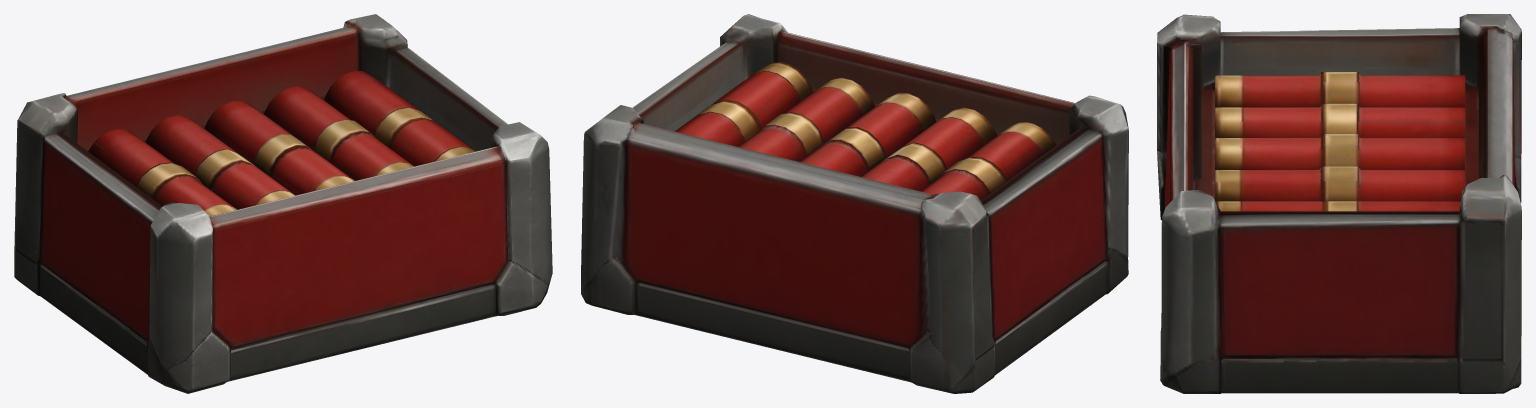
File: shotgun_ammo.glb
3 views of the same model, side by side, from view 1: azimuth 30°, elevation 25°; view 2: azimuth 150°, elevation 25°; view 3: azimuth 270°, elevation 25° (orthographic). The views are drawn at different scales.
Parts seen in each view (by area): view 1: tripo_node_61f35cd9-13f4-45f5-ac6d-9ddf1a7cd223; view 2: tripo_node_61f35cd9-13f4-45f5-ac6d-9ddf1a7cd223; view 3: tripo_node_61f35cd9-13f4-45f5-ac6d-9ddf1a7cd223.
Boxes of the visible parts, x1=… form: tripo_node_61f35cd9-13f4-45f5-ac6d-9ddf1a7cd223: x1=14, y1=14, x2=552, y2=393; tripo_node_61f35cd9-13f4-45f5-ac6d-9ddf1a7cd223: x1=581, y1=14, x2=1128, y2=393; tripo_node_61f35cd9-13f4-45f5-ac6d-9ddf1a7cd223: x1=1157, y1=14, x2=1521, y2=393.
Bounding box in the file's own units: 0.9995 × 0.4429 × 0.7524.
1 material, 1 textured.
